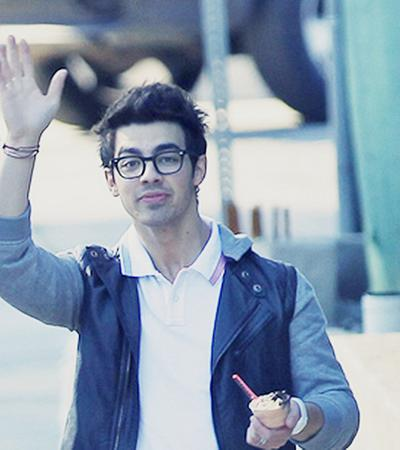person: (1, 35, 360, 450)
